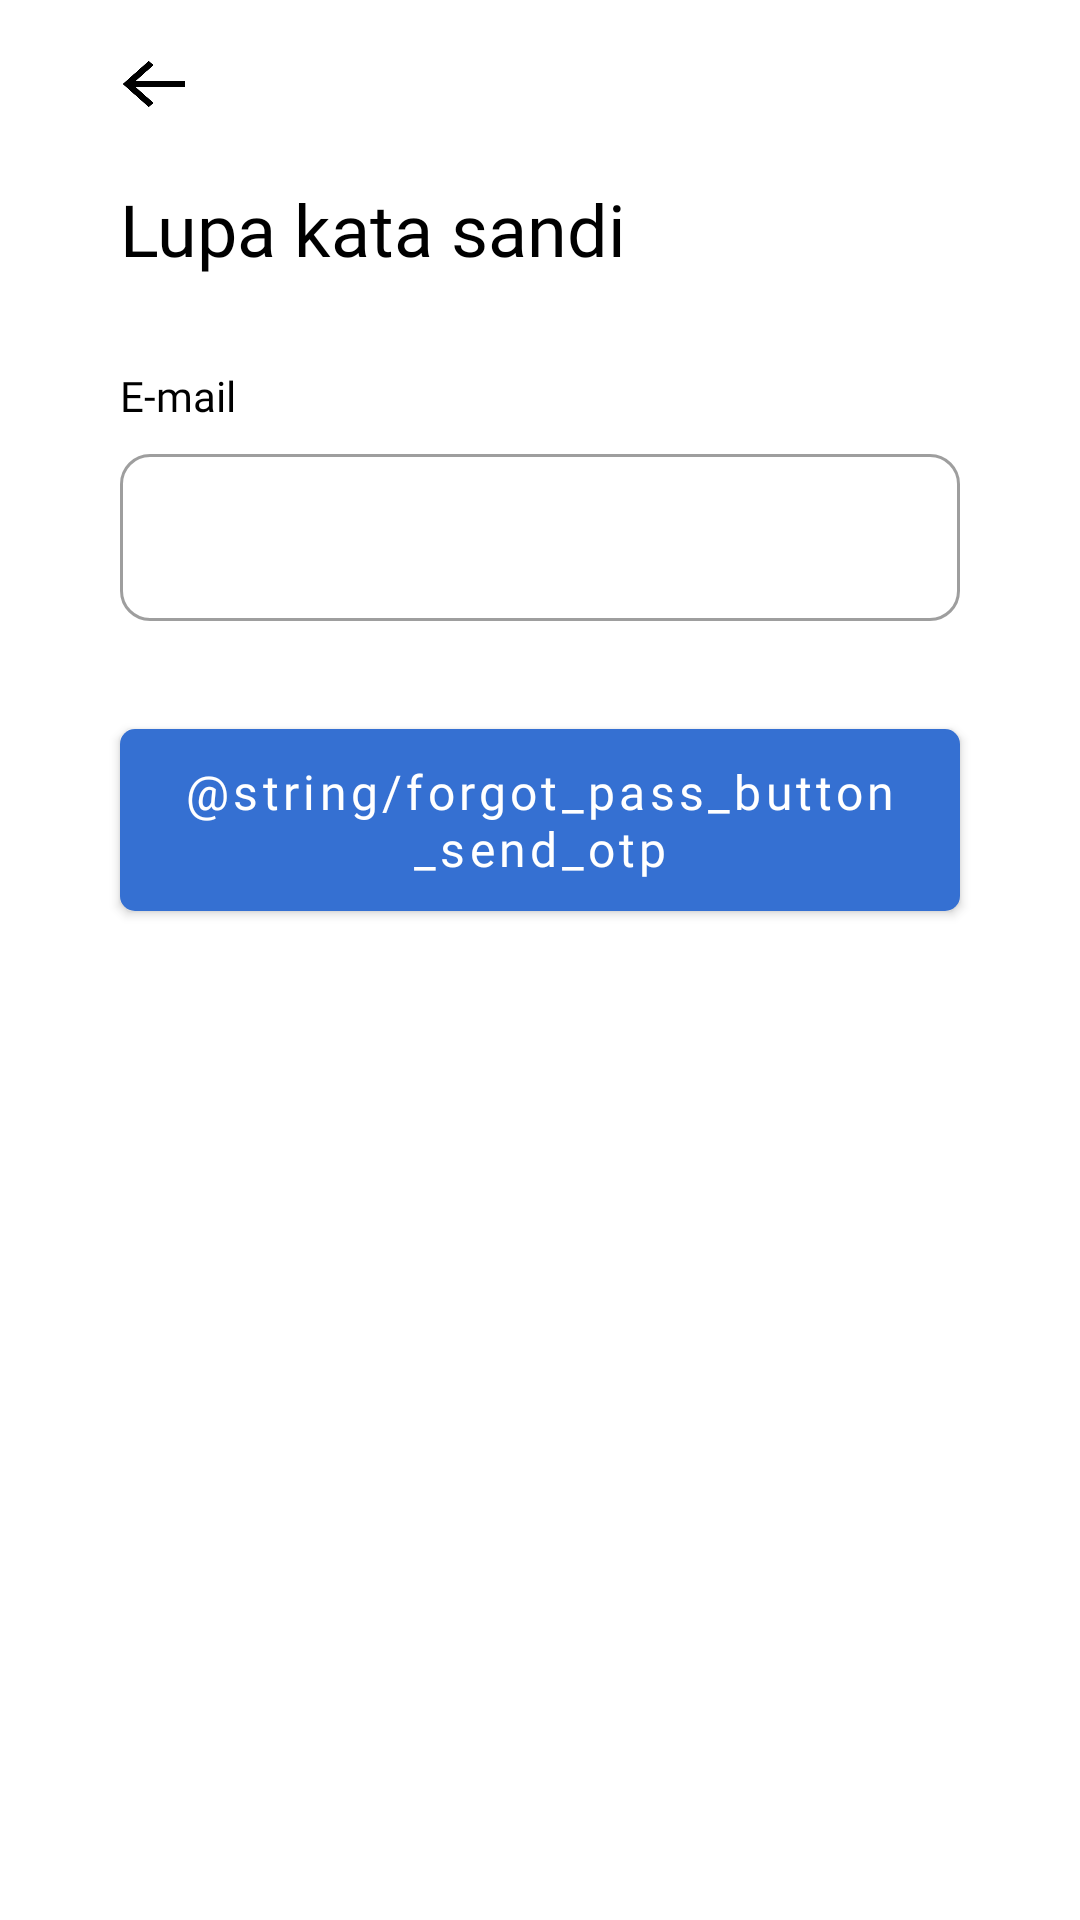

Screen size 1080 x 1920. Icon name, then its center in pixels as (x=x, y=y):
Back Button: (x=154, y=84)
